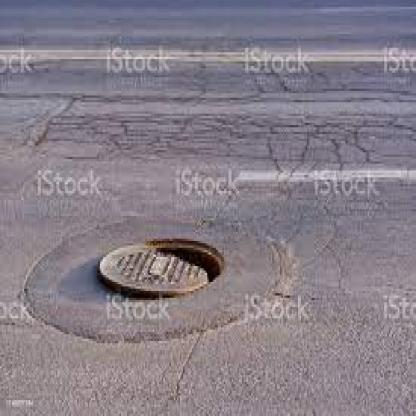open manhole-not overflowing-: (86, 226, 230, 298)
